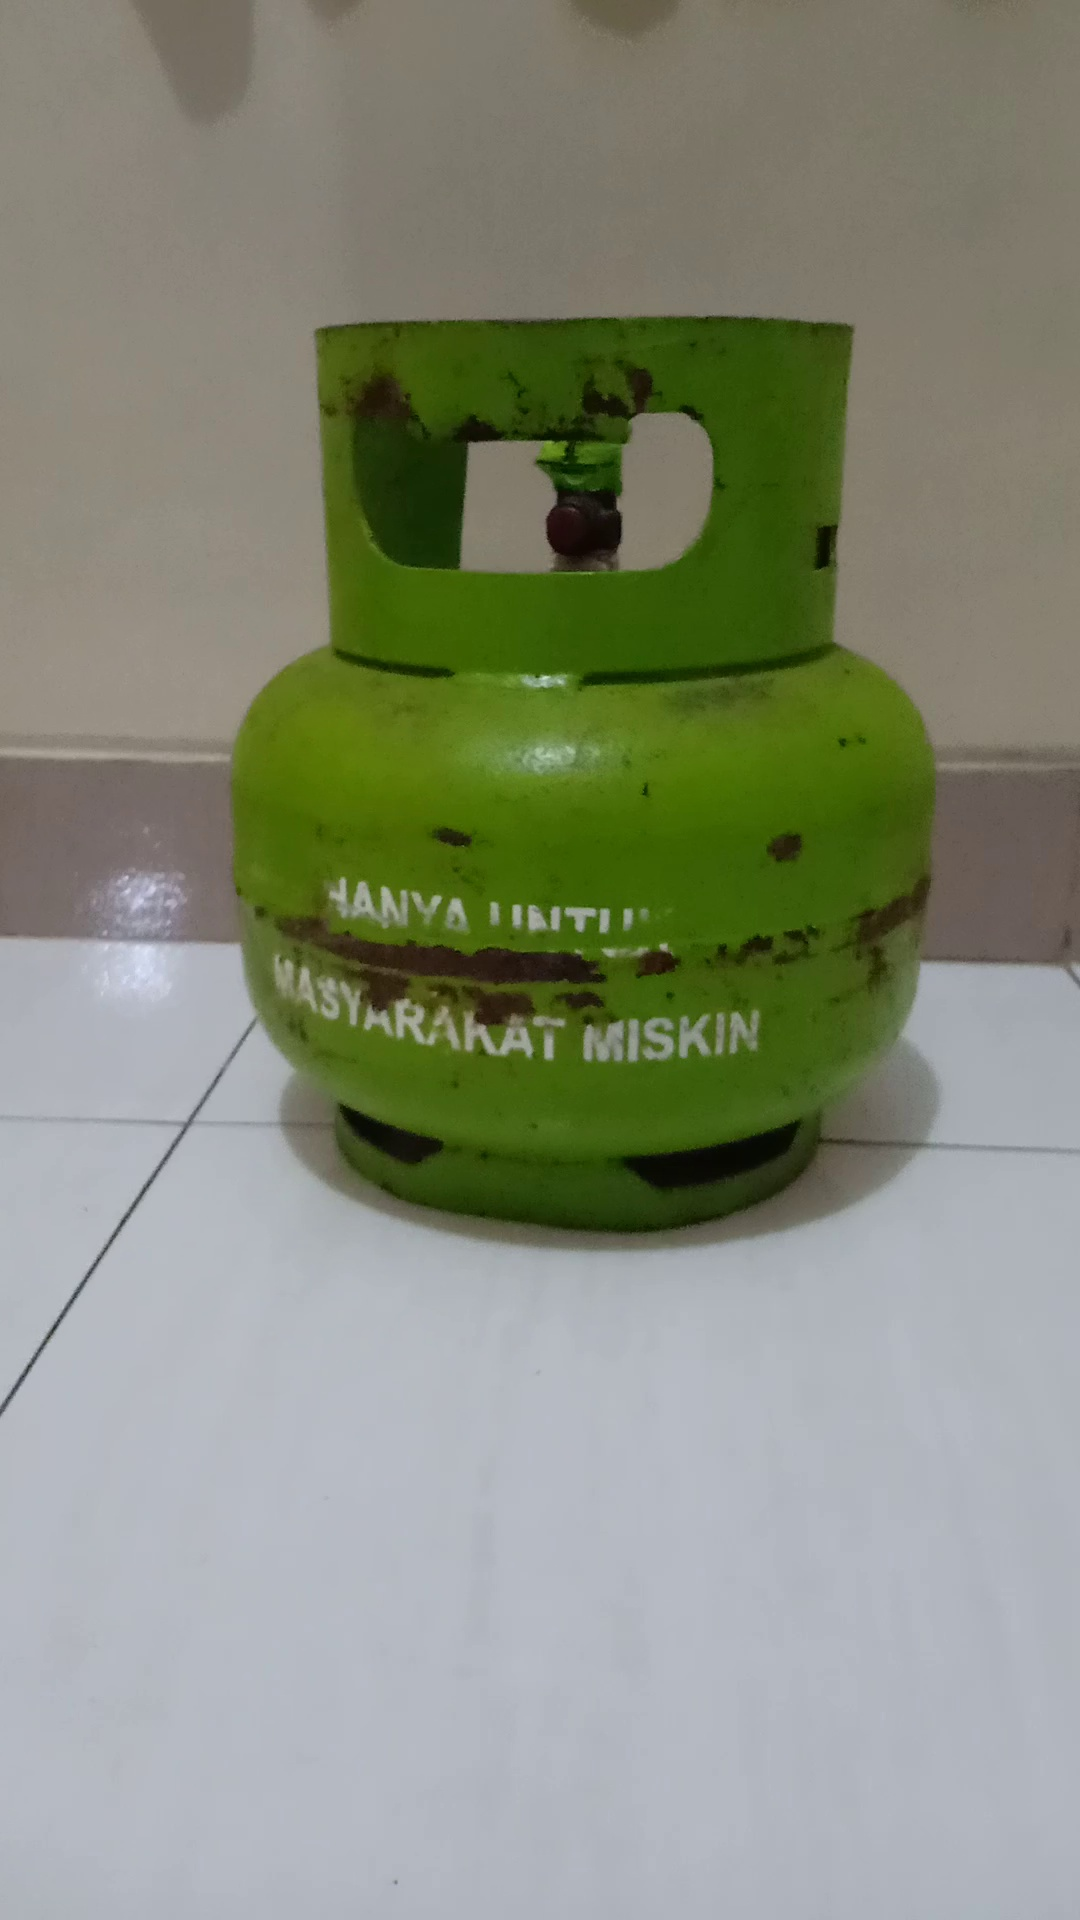gas_ijo: (240, 316, 938, 1236)
